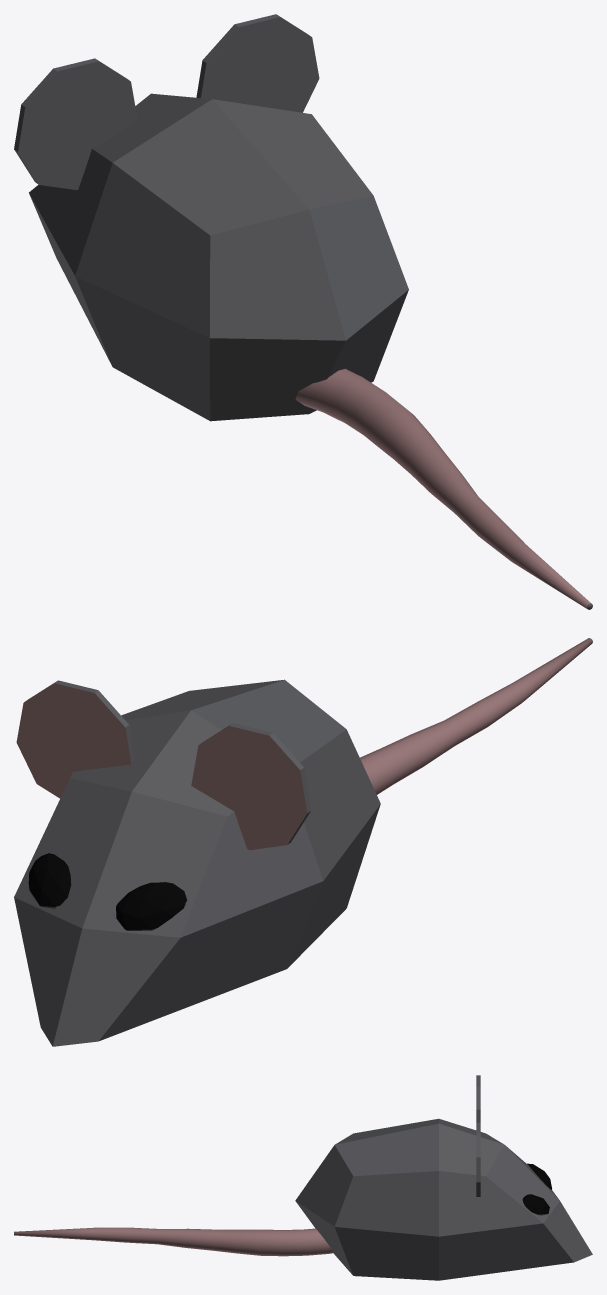
File: Rat.fbx
The picture shows the model from 3 angles, top to bottom: view 1: azimuth 30°, elevation 25°; view 2: azimuth 150°, elevation 25°; view 3: azimuth 270°, elevation 25°; orthographic projection. The views are drawn at different scales.
Parts seen in each view (by area): view 1: Rat; view 2: Rat; view 3: Rat.
Part boxes in pixels (x1,y1,x2,y2): Rat: (14,14,592,609); Rat: (14,638,592,1046); Rat: (14,1075,592,1280).
Bounding box in the file's own units: 185 × 161 × 571.
